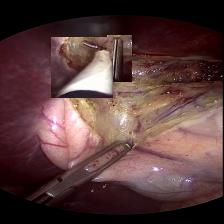Grasper: (26, 136, 136, 207), (107, 34, 132, 80)
Hook: (51, 36, 113, 97)
